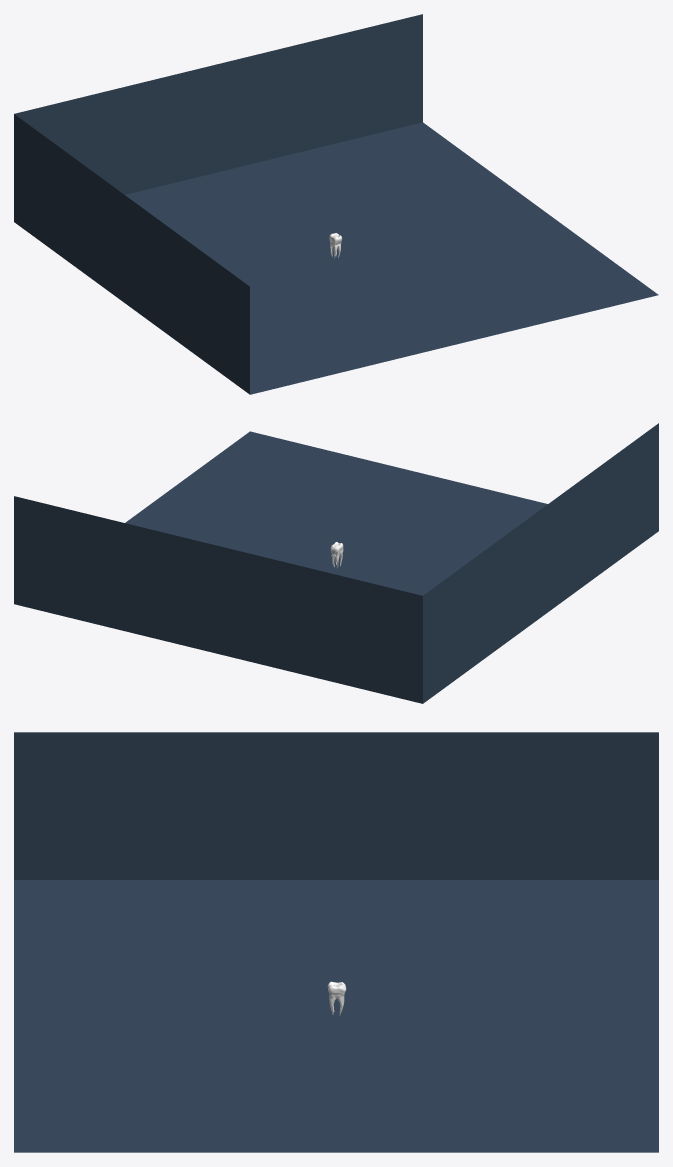
File: tooth.glb
The picture shows the model from 3 angles, top to bottom: view 1: azimuth 30°, elevation 25°; view 2: azimuth 150°, elevation 25°; view 3: azimuth 270°, elevation 25°; orthographic projection. The views are drawn at different scales.
Visible parts, largest first — view 1: Plane; view 2: Plane; view 3: Plane.
Part boxes in pixels (left/top/right/bottom): Plane: left=14, top=14, right=658, bottom=394; Plane: left=14, top=423, right=658, bottom=703; Plane: left=14, top=732, right=658, bottom=1152.
Size of the model in its own units: 57.28 by 14.48 by 57.28.
